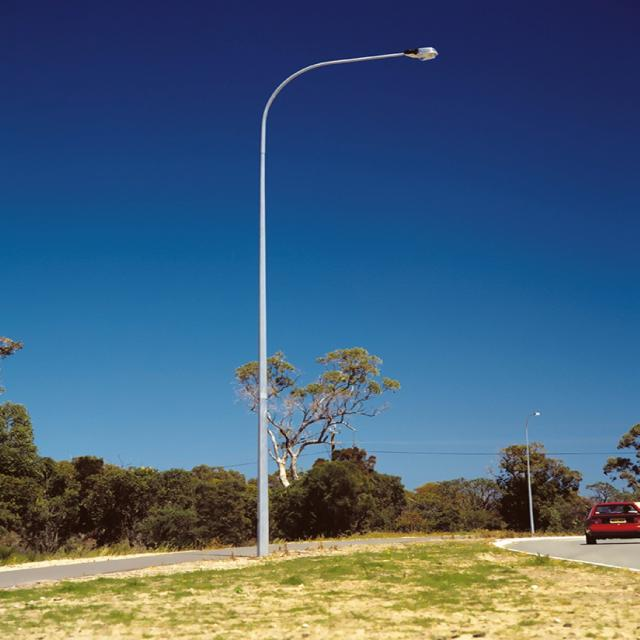Electric pole: (257, 46, 439, 558)
